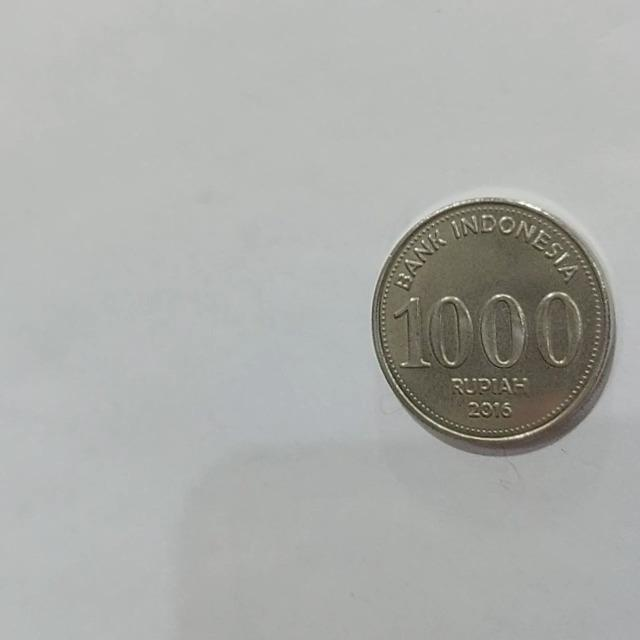Rp100: (369, 194, 615, 456)
